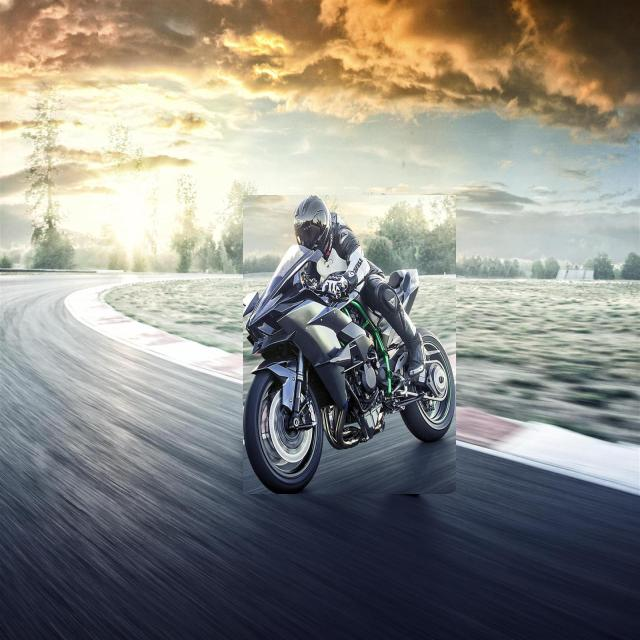motorcycle: (243, 195, 455, 494)
